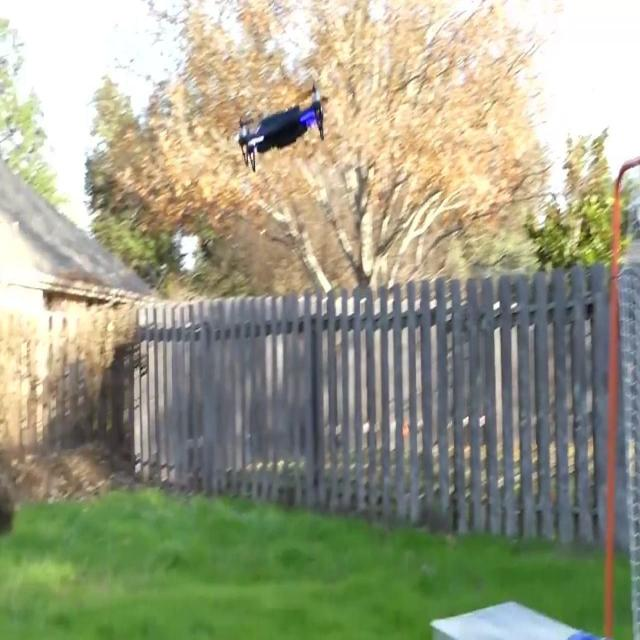UAV: (238, 84, 330, 172)
